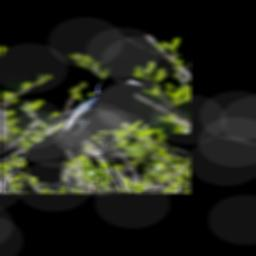Crow: (24, 71, 144, 183)
